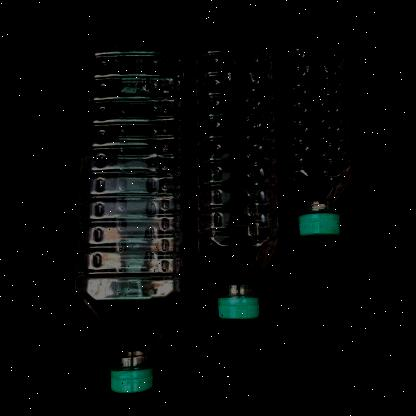Plastic Bottle: (74, 33, 183, 393), (194, 36, 278, 318), (284, 36, 350, 236)
